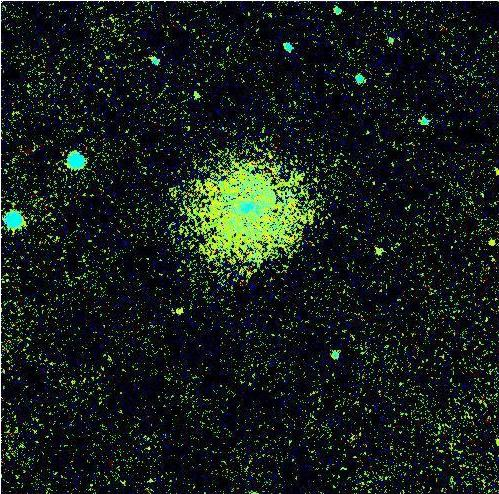star: (165, 298, 195, 328)
